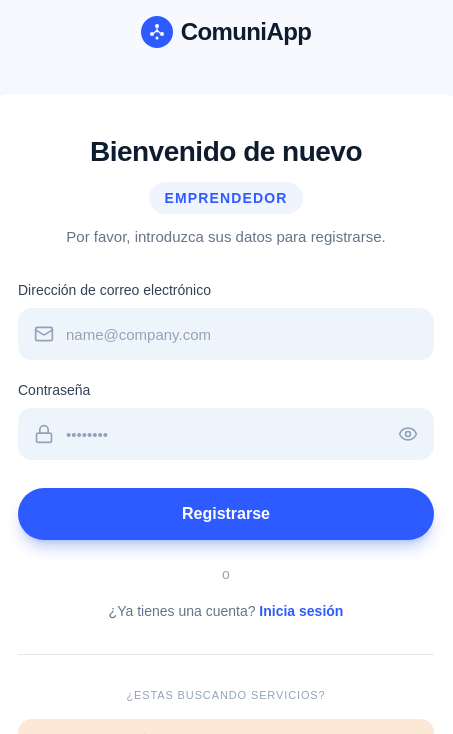
Scenario: RegistroEmprendedor › rechaza correo ya registrado
The width and height of the screenshot is (453, 734).
Type "emprendedor@comuniapp.com" into the field labelled "Dirección de correo electrónico".
click(226, 334); type("emprendedor@comuniapp.com")  # box [18, 308, 434, 360]
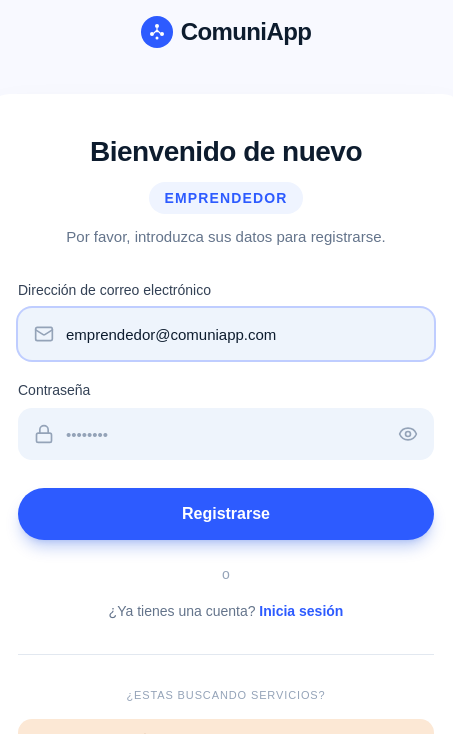
Type "emprendedor123" into the password field labelled "Contraseña".
click(226, 434); type("emprendedor123")  # box [18, 408, 434, 460]
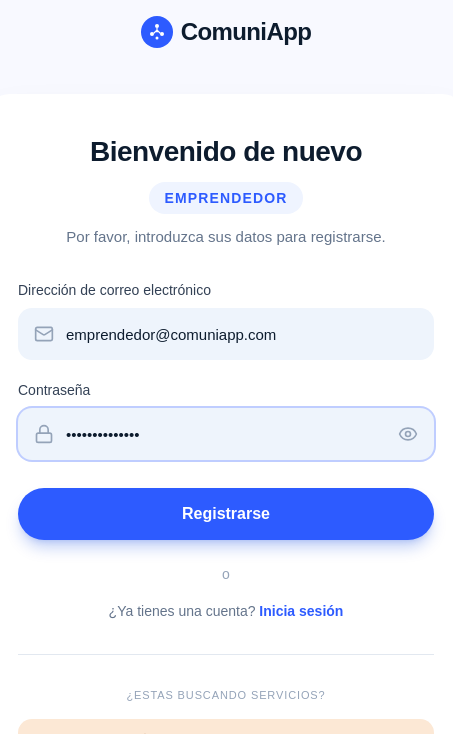
Click the button "Registrarse".
click(226, 514)  # box [18, 488, 434, 540]
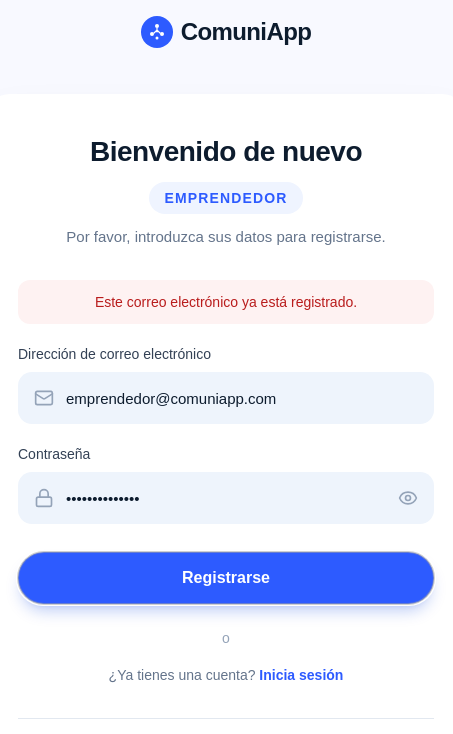
expect the text "Este correo electrónico ya está registrado." is shown: met, box [18, 280, 434, 324]
